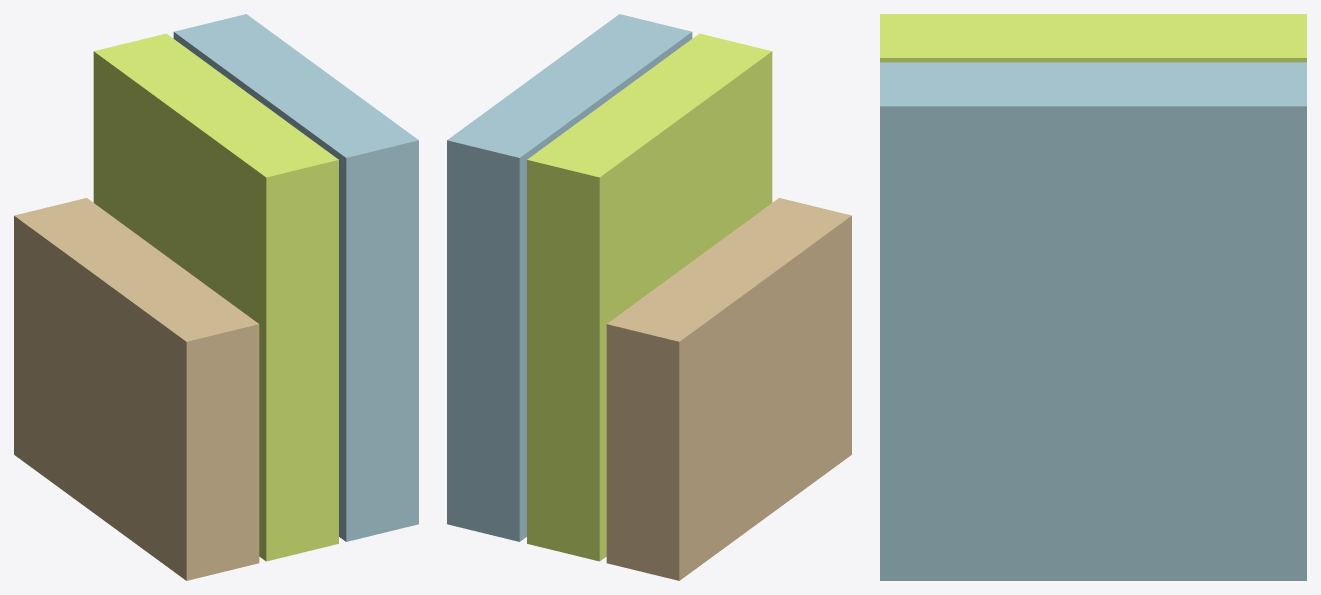
File: Boxes.fbx
The picture shows the model from 3 angles, left to right: view 1: azimuth 30°, elevation 25°; view 2: azimuth 150°, elevation 25°; view 3: azimuth 270°, elevation 25°; orthographic projection. The views are drawn at different scales.
Visible parts, largest first — view 1: Small Box, Cereal, Cereal 2; view 2: Small Box, Cereal, Cereal 2; view 3: Cereal 2, Cereal.
Part boxes in pixels (<box>): Small Box: <box>14,198,259,580</box>; Cereal: <box>93,33,338,561</box>; Cereal 2: <box>173,14,418,541</box>; Small Box: <box>606,198,851,580</box>; Cereal: <box>527,33,772,561</box>; Cereal 2: <box>447,14,692,541</box>; Cereal 2: <box>880,62,1306,580</box>; Cereal: <box>880,14,1306,62</box>.
Bounding box in the file's own units: 21.21 × 33.48 × 27.26.
